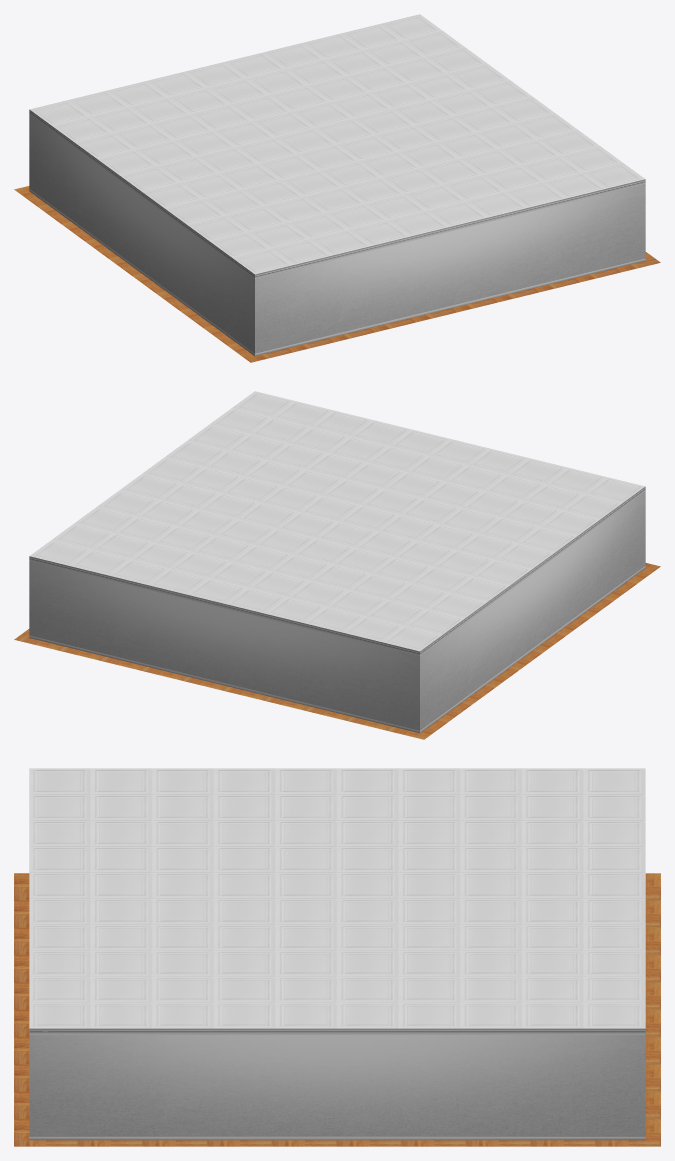
File: museum.glb
The picture shows the model from 3 angles, top to bottom: view 1: azimuth 30°, elevation 25°; view 2: azimuth 150°, elevation 25°; view 3: azimuth 270°, elevation 25°; orthographic projection. The views are drawn at different scales.
Visible parts, largest first — view 1: ceil1, wall1.001, wall4, floor; view 2: ceil1, wall1, wall4, floor; view 3: ceil1, wall3, floor.
Part boxes in pixels (left/top/right/bottom): ceil1: left=29, top=14, right=644, bottom=274; wall1.001: left=255, top=179, right=645, bottom=356; wall4: left=29, top=109, right=254, bottom=355; floor: left=14, top=186, right=660, bottom=362; ceil1: left=30, top=391, right=645, bottom=651; wall1: left=29, top=556, right=419, bottom=733; wall4: left=420, top=486, right=645, bottom=732; floor: left=14, top=563, right=660, bottom=739; ceil1: left=29, top=768, right=645, bottom=1028; wall3: left=29, top=1028, right=645, bottom=1140; floor: left=14, top=873, right=660, bottom=1146.
Size of the model in its own units: 21 by 4 by 21.
5 materials, 4 textured.
